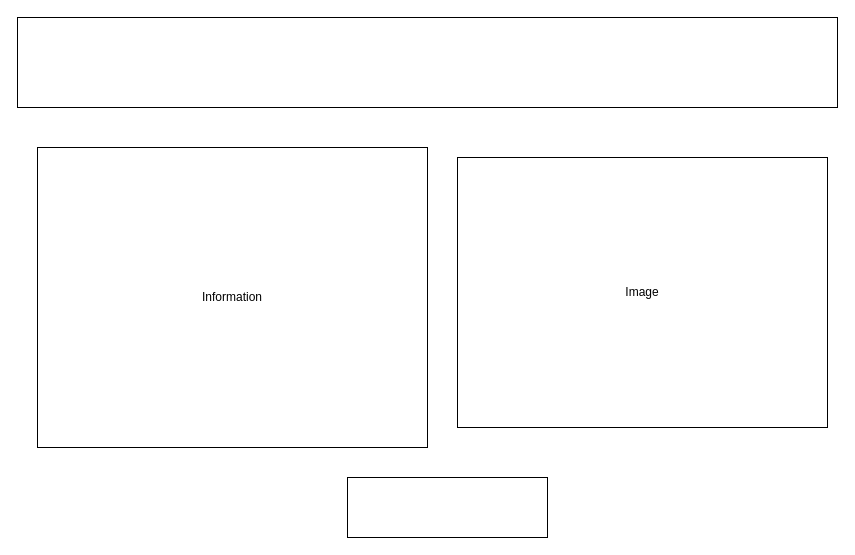
The diagram is 855 pixels wide and 555 high, and some of its shapes have lost their labels. Here are the shapes that lost their labels. From the top down, the centre of each, then its label:
[427,62]: Title
[447,507]: Book Now
